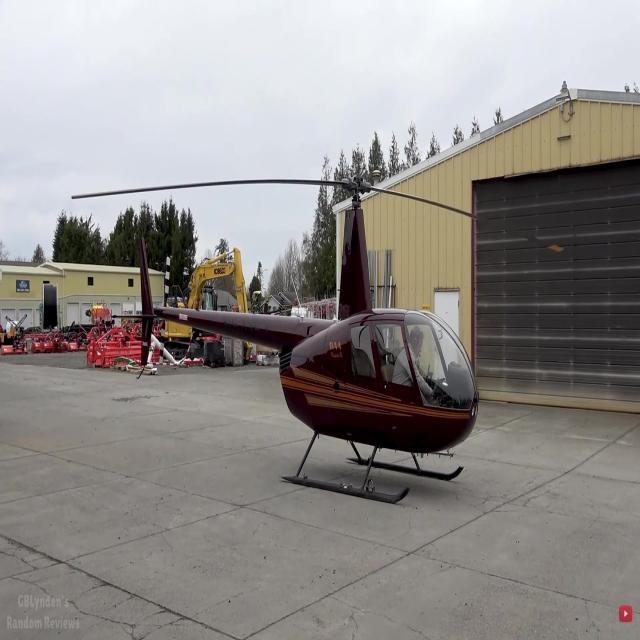CIV_HELO: (109, 175, 481, 510)
